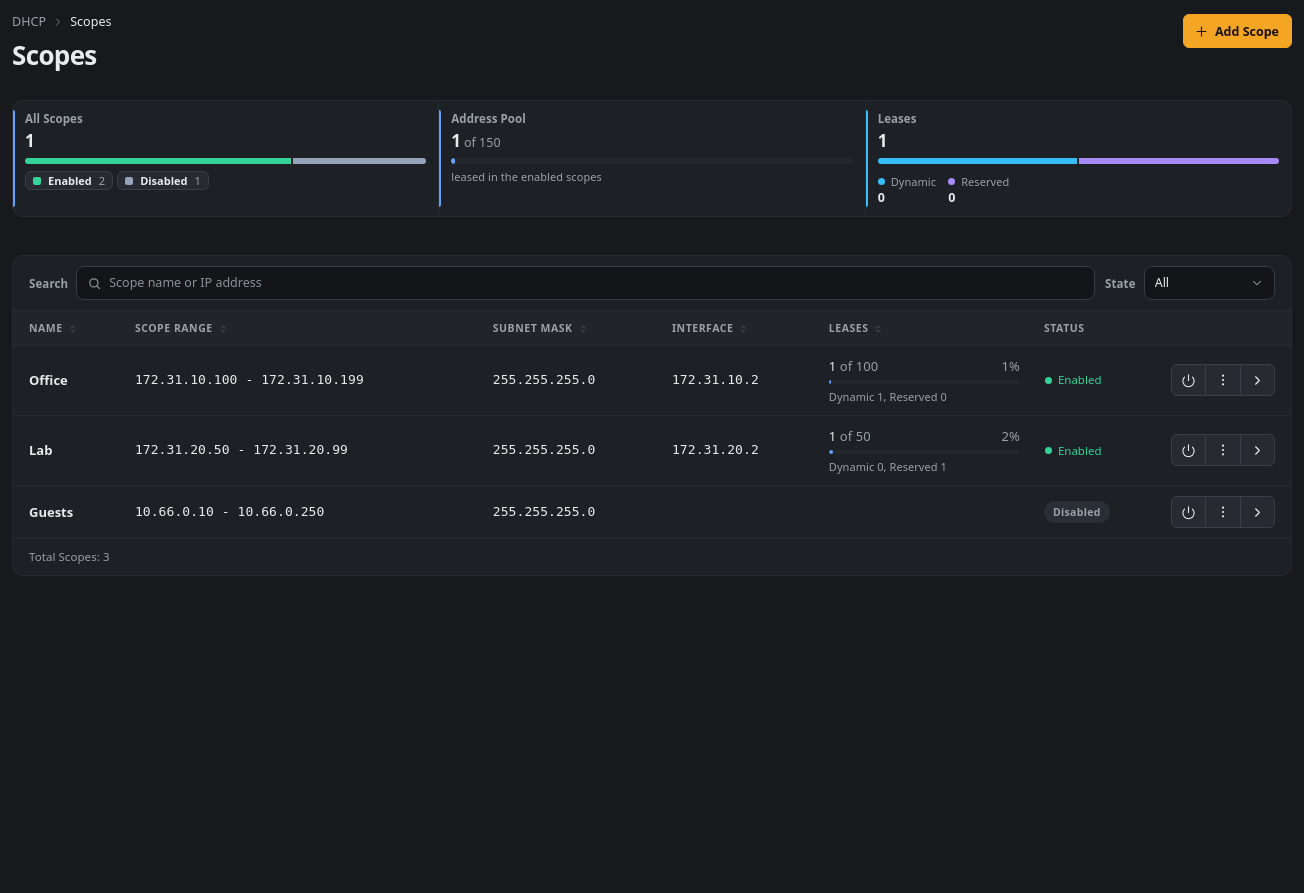
Test case: a scope as a page › opening one pushes ?scope=, and the breadcrumb returns to the list and reads it again
Expected: the text "Total Scopes: 3" is shown, [29,548,110,566]
Click the button "Office".
click(48, 380)  # box [29,370,68,390]
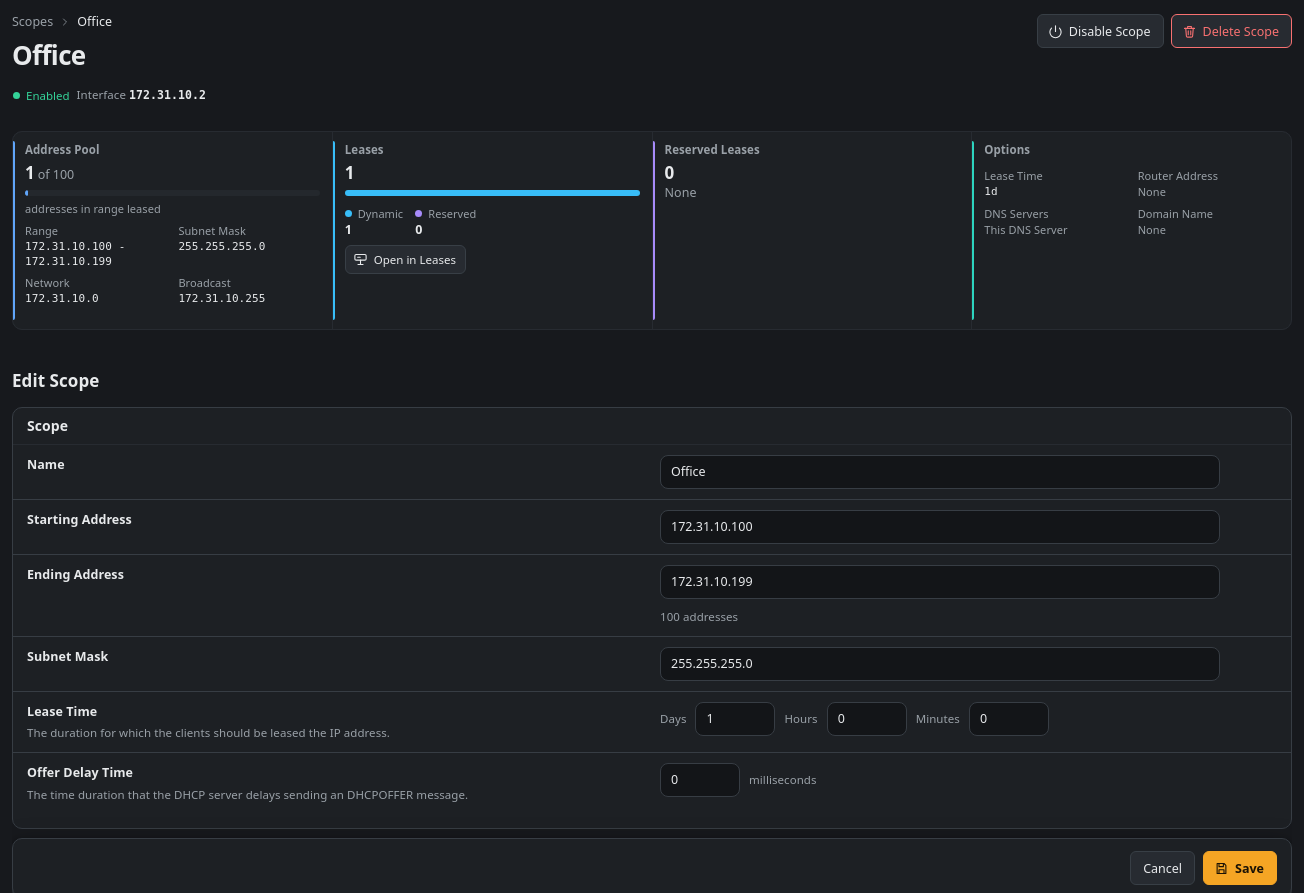
Now the heading "Edit Scope" is shown, box [12,369,99,392]
Click the button "Scopes".
click(33, 22)  # box [12,13,53,30]
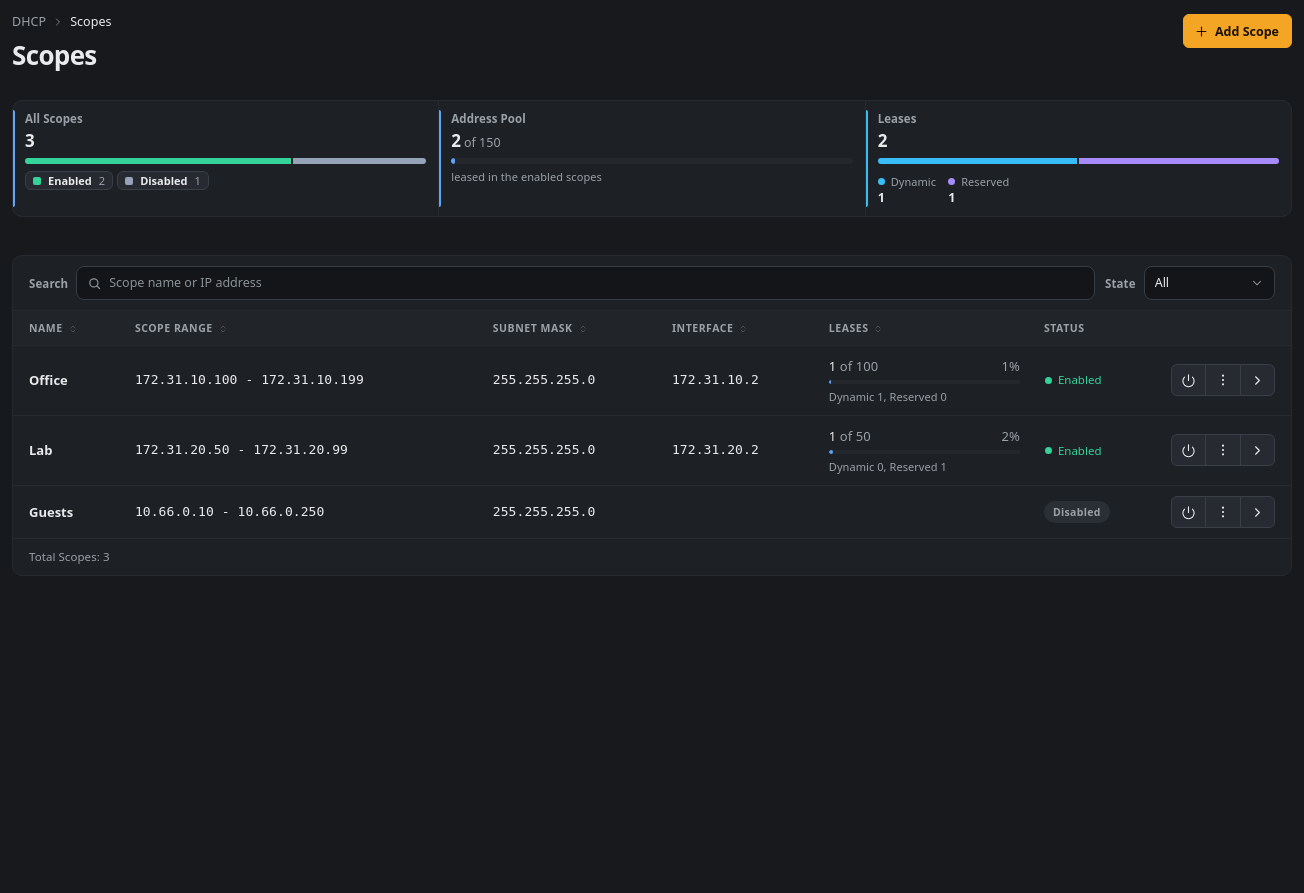
Now the text "Total Scopes: 3" is shown, box [29,548,110,566]
